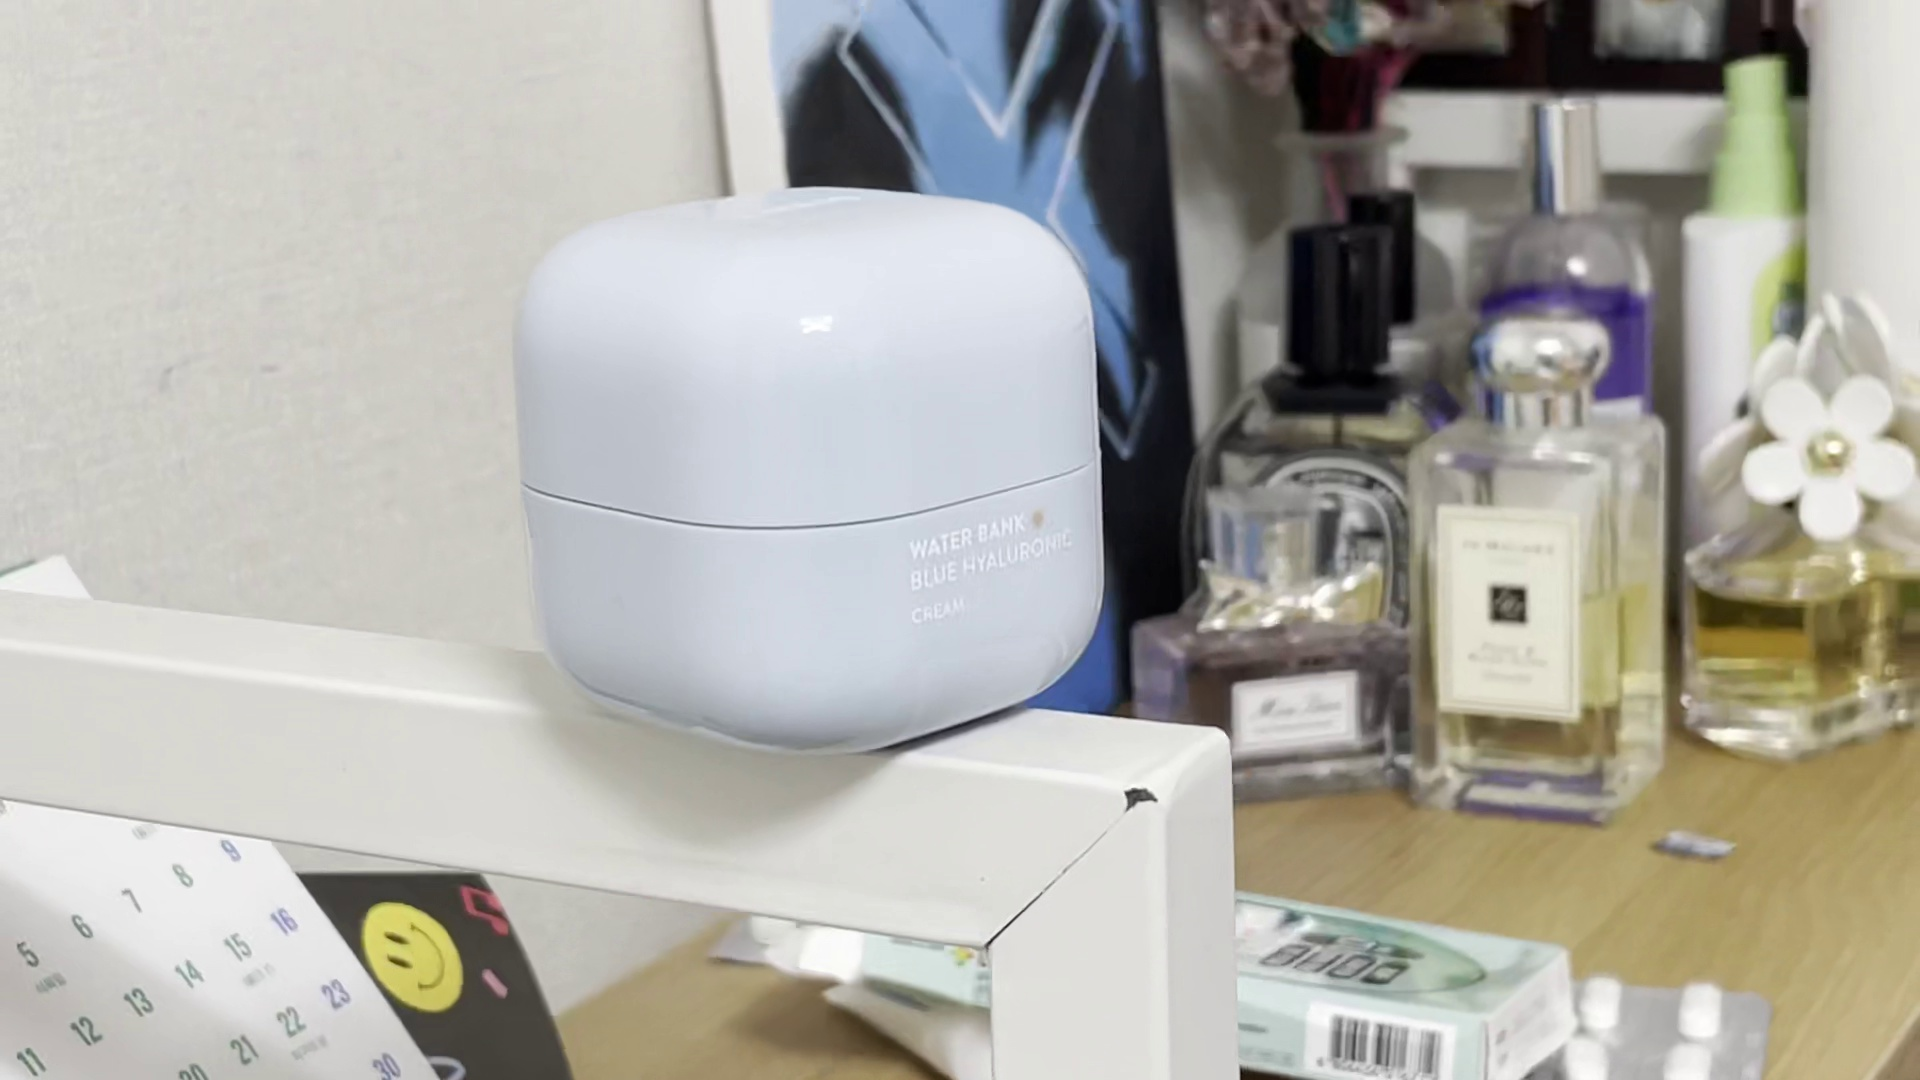cream: (512, 175, 1105, 760)
